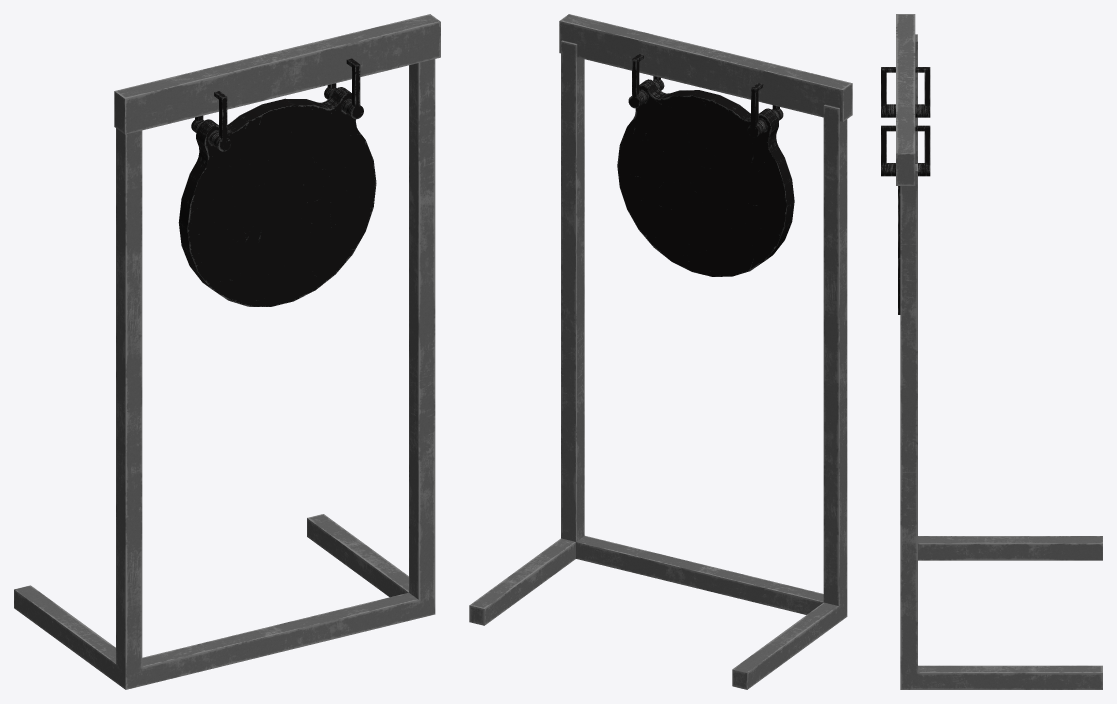
The model's file is gong.glb.
The picture shows the model from 3 angles, left to right: view 1: azimuth 30°, elevation 25°; view 2: azimuth 150°, elevation 25°; view 3: azimuth 270°, elevation 25°; orthographic projection. The views are drawn at different scales.
Visible parts, largest first — view 1: Mount, Plate; view 2: Mount, Plate; view 3: Mount, Plate.
Boxes of the visible parts, x1,y1,x2,y2 form: Mount: (14, 14, 440, 689); Plate: (178, 58, 376, 306); Mount: (469, 14, 852, 689); Plate: (617, 54, 794, 276); Mount: (896, 14, 1102, 689); Plate: (881, 67, 930, 314).
Bounding box in the file's own units: 0.762 × 1.37 × 0.5111.
Materials: 2 (2 with a texture image).
